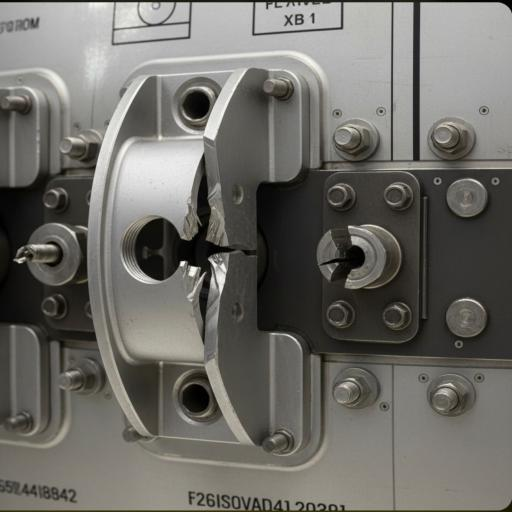fastening crack: (155, 154, 245, 359), (302, 208, 415, 310)
